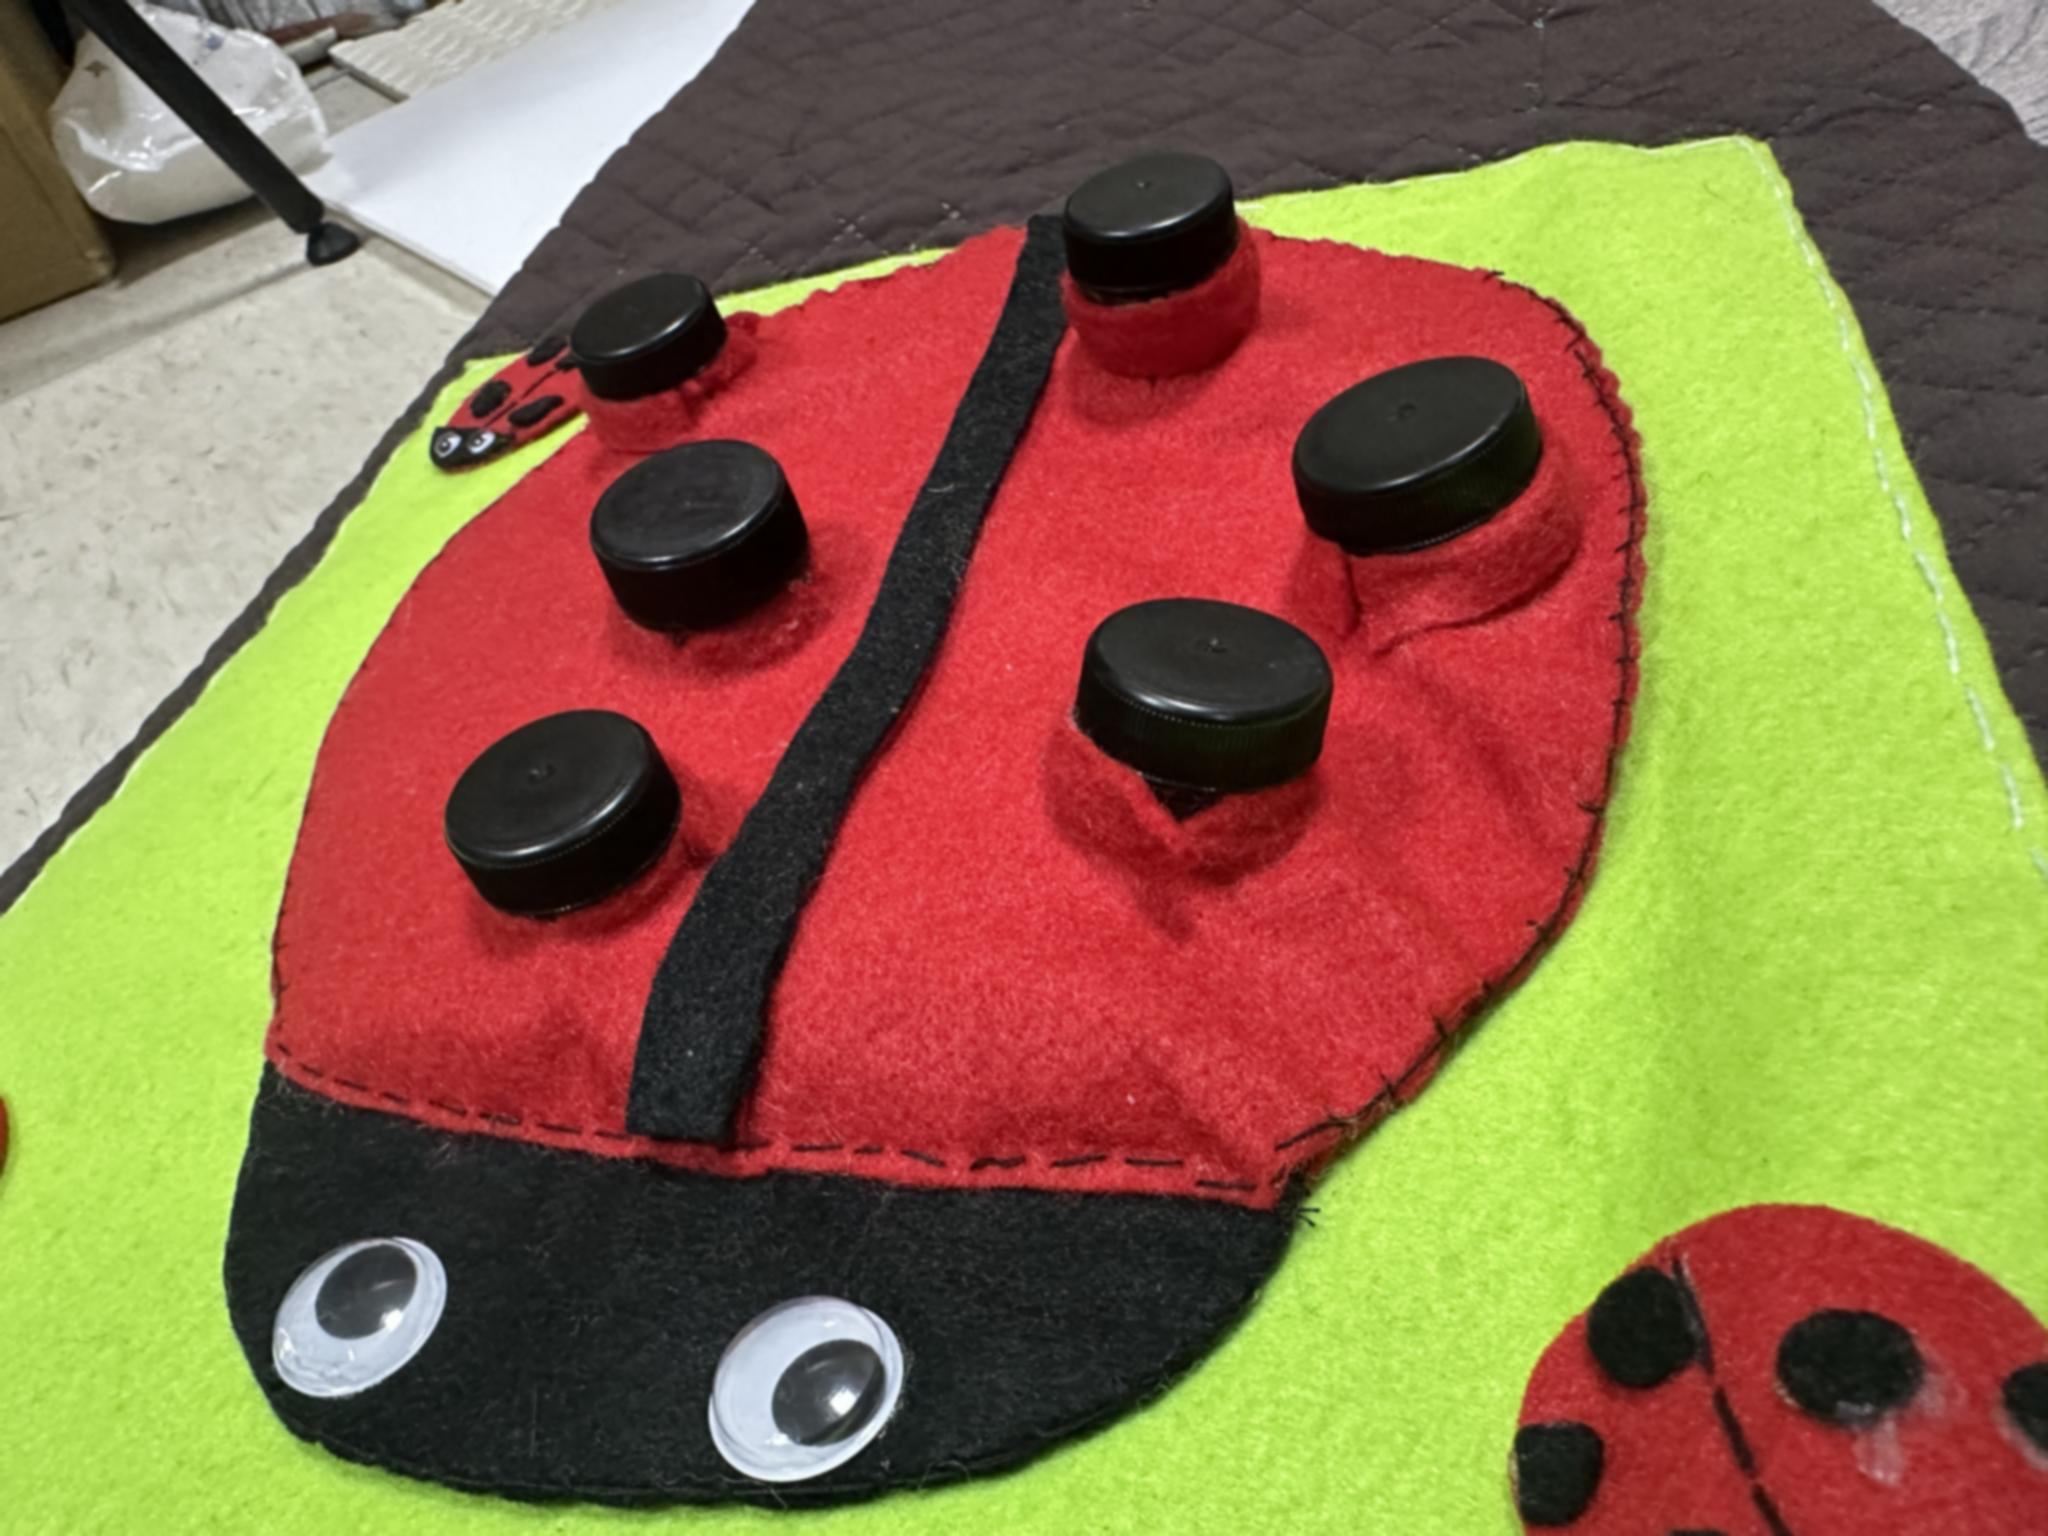cap_ok: (1279, 345, 1584, 637), (1074, 579, 1335, 907), (423, 694, 698, 952), (581, 428, 821, 679), (1047, 153, 1255, 390), (543, 265, 784, 452)
